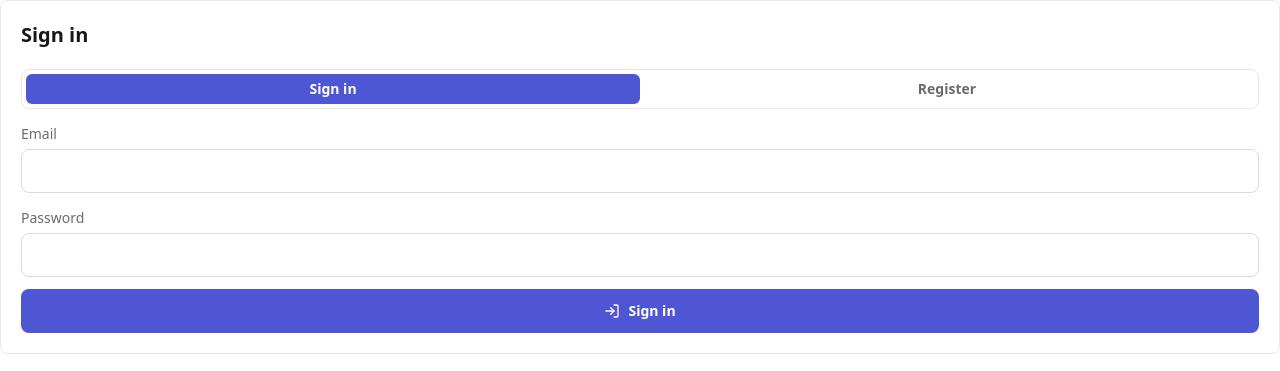
Test: AuthPanel › restores session on mount and logs in with email/password
The width and height of the screenshot is (1280, 371).
Step 1. Type "player@example.com" into the field labelled "Email" → x=640, y=171, box x1=21 y1=149 x2=1259 y2=193
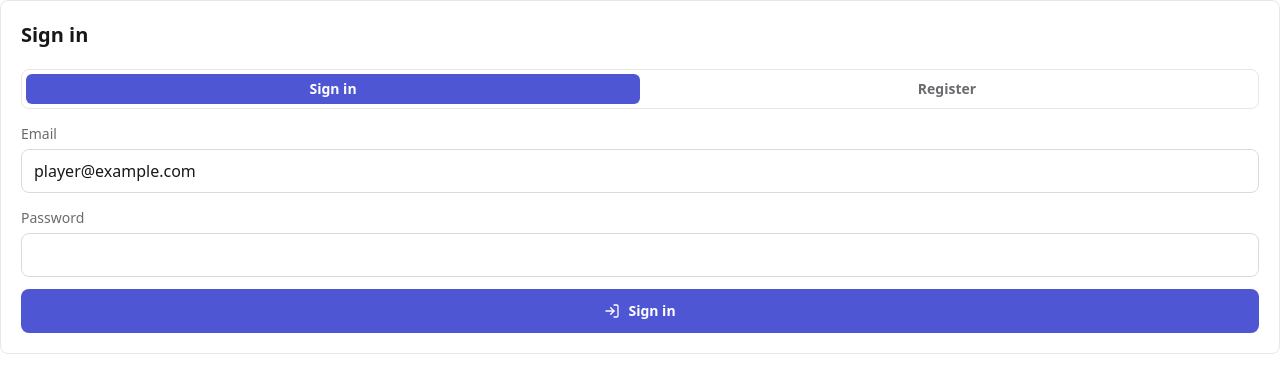
Step 2. Type "secret" into the password field labelled "Password" → x=640, y=255, box x1=21 y1=233 x2=1259 y2=277
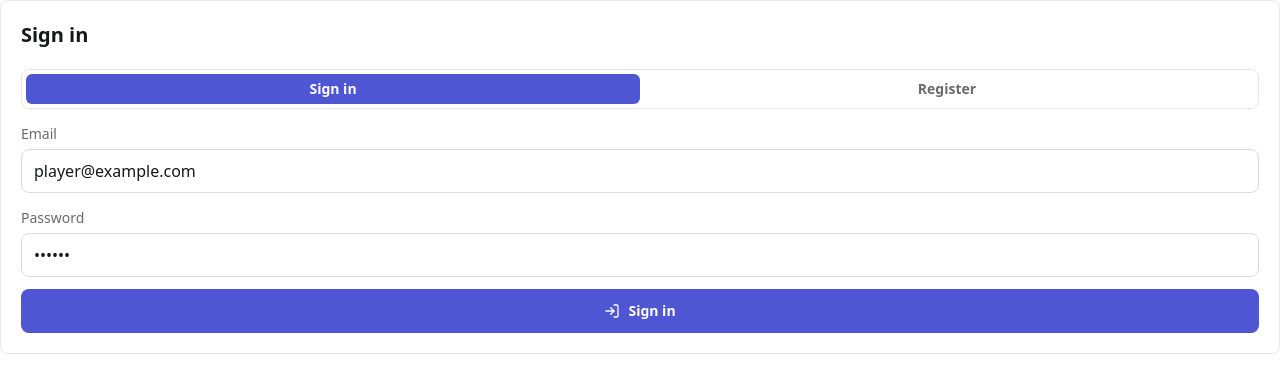
Step 3. Click the 2nd button "Sign in" → x=640, y=311, box x1=21 y1=289 x2=1259 y2=333
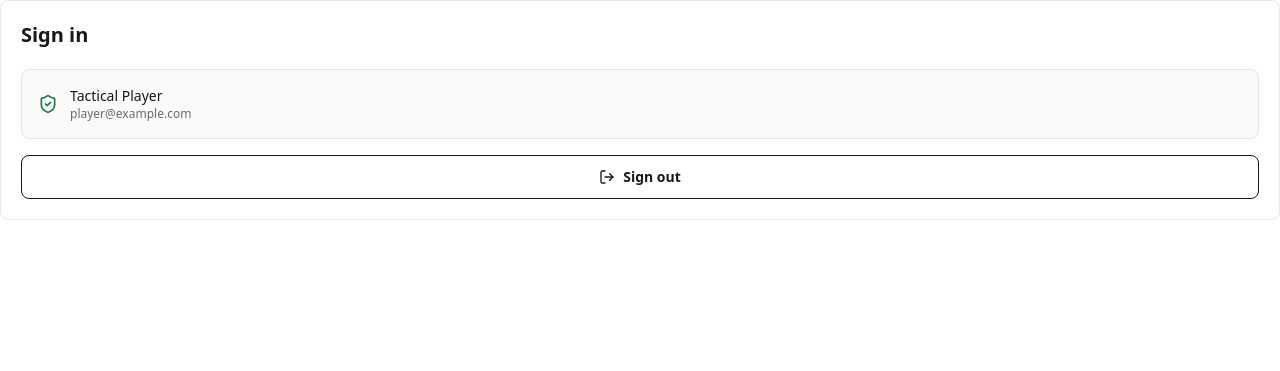
expect the text "Tactical Player" is shown: met, box x1=70 y1=86 x2=162 y2=105
